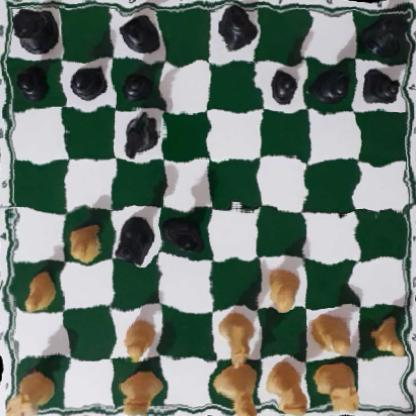black-bishop: (161, 212, 206, 257), (117, 12, 165, 51)
black-king: (214, 6, 256, 56)
black-knight: (121, 109, 158, 154)
black-pawn: (360, 65, 402, 106), (13, 62, 50, 104), (69, 60, 107, 99), (313, 64, 348, 103), (121, 63, 155, 101), (269, 65, 297, 100)
black-queen: (111, 216, 152, 263)
black-rook: (5, 5, 59, 50), (363, 7, 410, 56)
white-bishop: (119, 363, 164, 416), (265, 362, 308, 416)
white-king: (221, 362, 260, 416)
white-knight: (217, 315, 255, 370)
white-pawn: (308, 308, 354, 354), (67, 218, 106, 261), (118, 312, 154, 356), (368, 314, 406, 354), (20, 270, 57, 311), (264, 264, 299, 307)
white-rook: (7, 360, 55, 416), (311, 366, 361, 415)
